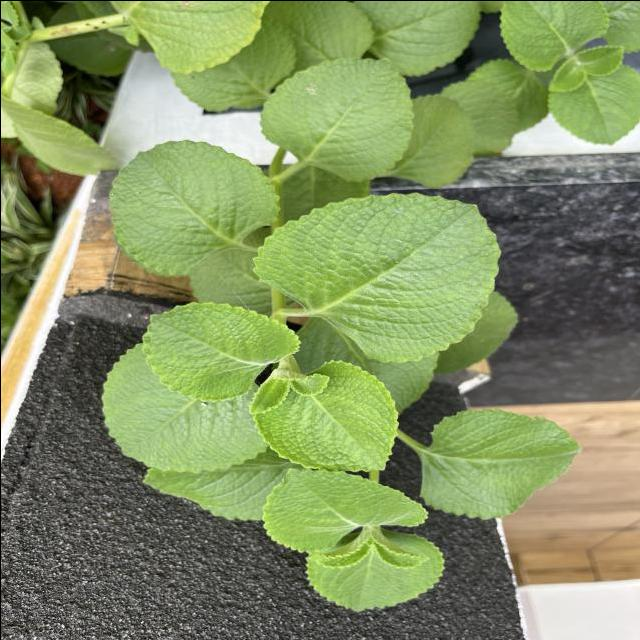Plectranthus barbatus: (250, 190, 502, 364), (106, 137, 282, 277), (100, 340, 270, 473), (257, 54, 414, 184), (418, 405, 583, 520), (252, 358, 399, 472), (140, 300, 302, 403), (262, 466, 428, 554), (302, 534, 446, 612), (498, 0, 609, 71), (545, 64, 640, 146)
